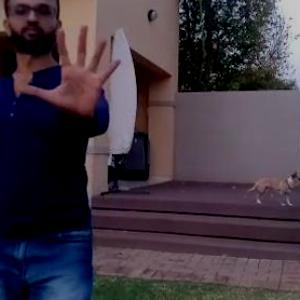follow_hand: (17, 18, 125, 126)
